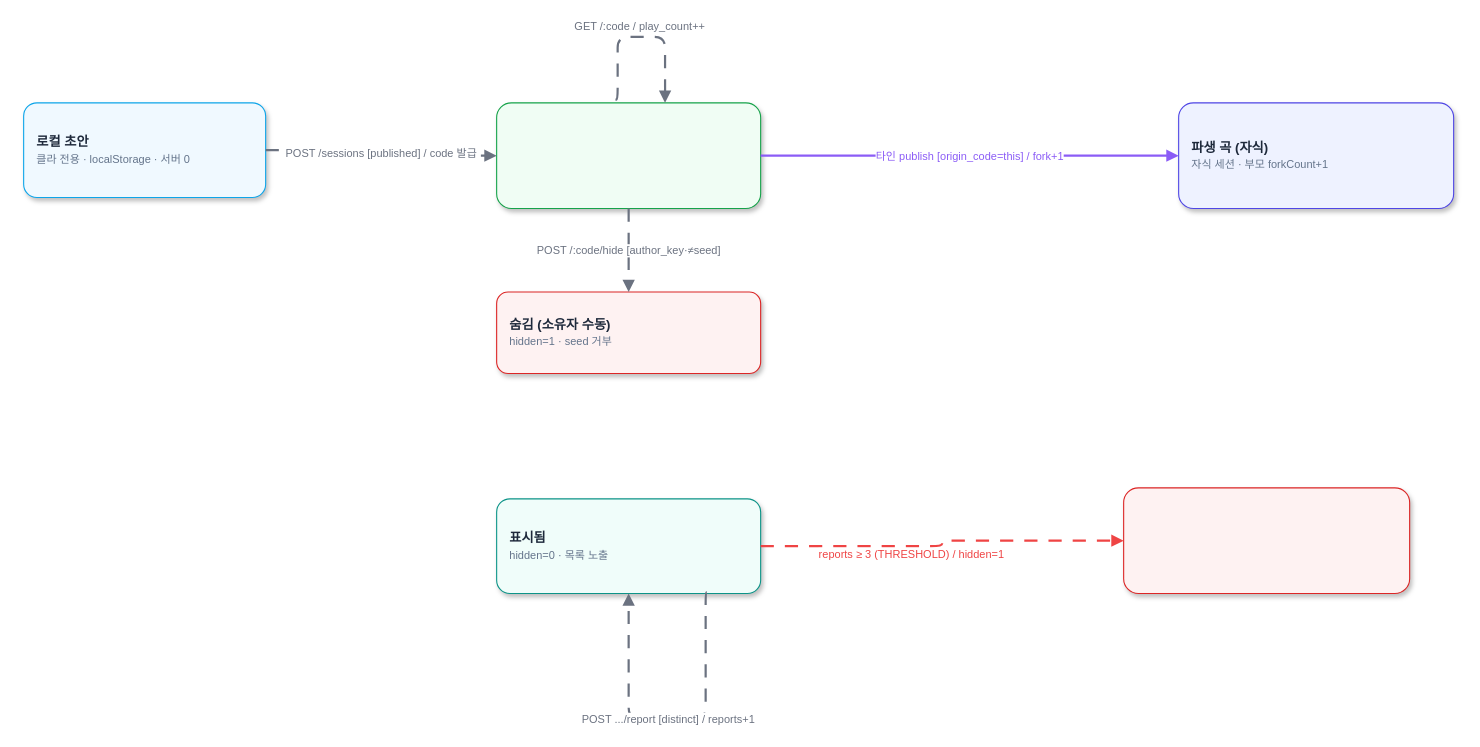
Image size: 1480x747. Some labels were removed from this diagram. The shapes that lost their labels are listed below. From the top down, each one's centre as x and y in pixels, then its label:
the point at 629,156: 게시됨 published=1 · 보드 노출
the point at 1267,541: 자동 숨김 hidden=1 · 자동 모더레이션
